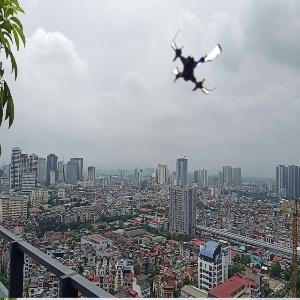drone: (162, 28, 232, 98)
